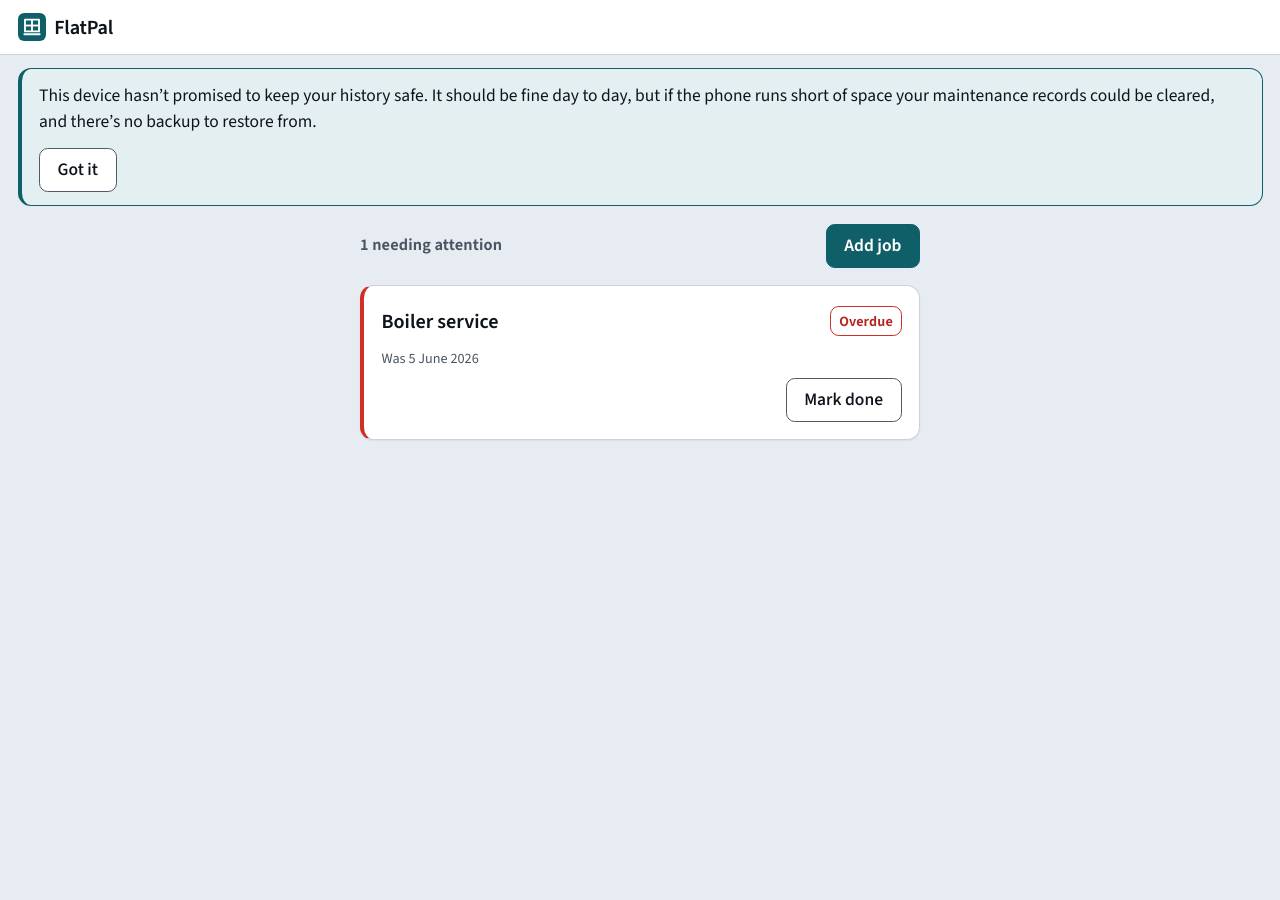
Test: removing one completion from a job’s history › removes the upper of two entries dated the same day, when that is the one pressed
Click the button "Boiler service" at (440, 321), box [382,299,499,343]
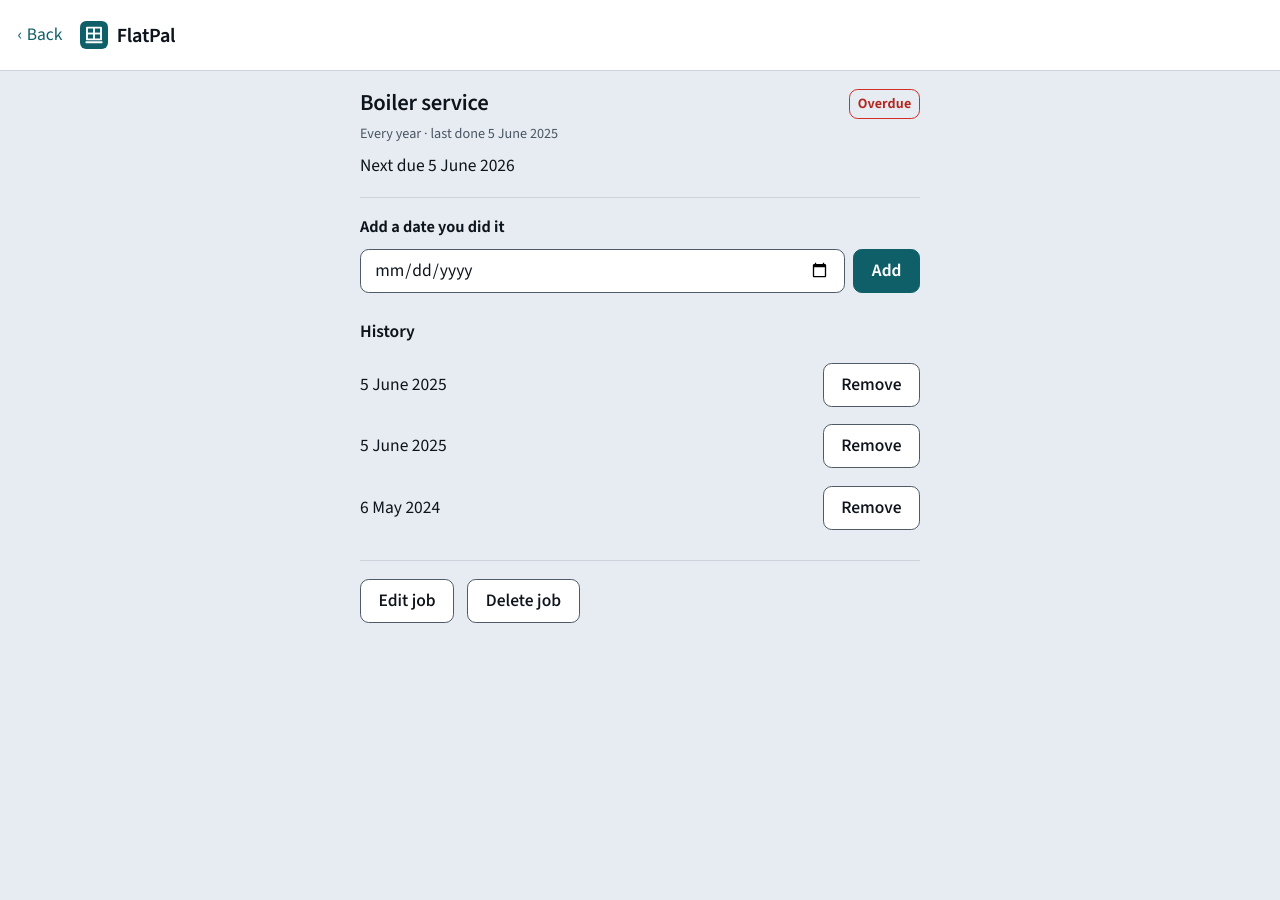
Click the button named "Remove the completion on 5 June 2025" at (871, 385), box [823,363,920,407]
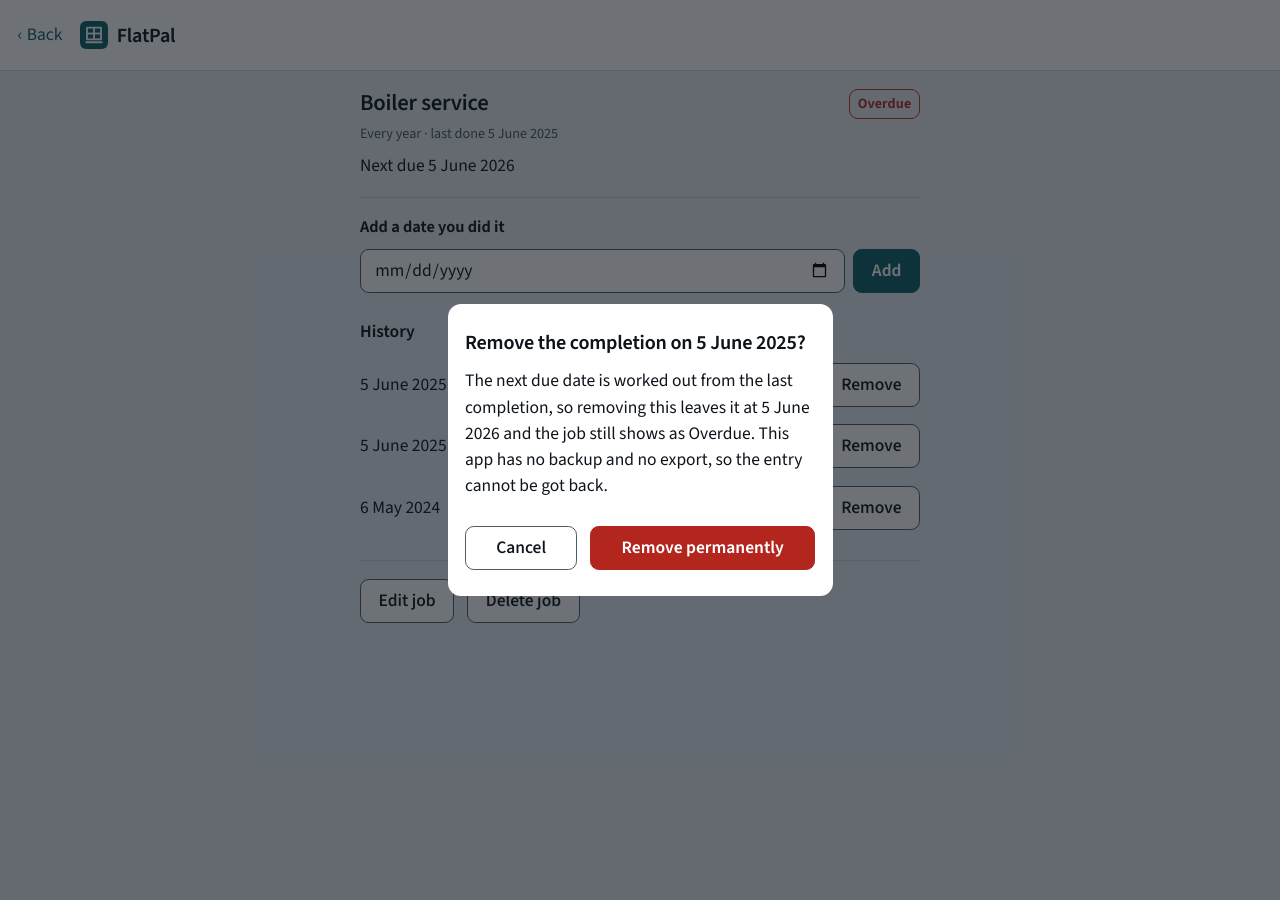
Click the button "Remove permanently" at (703, 548), box [590,526,815,570]
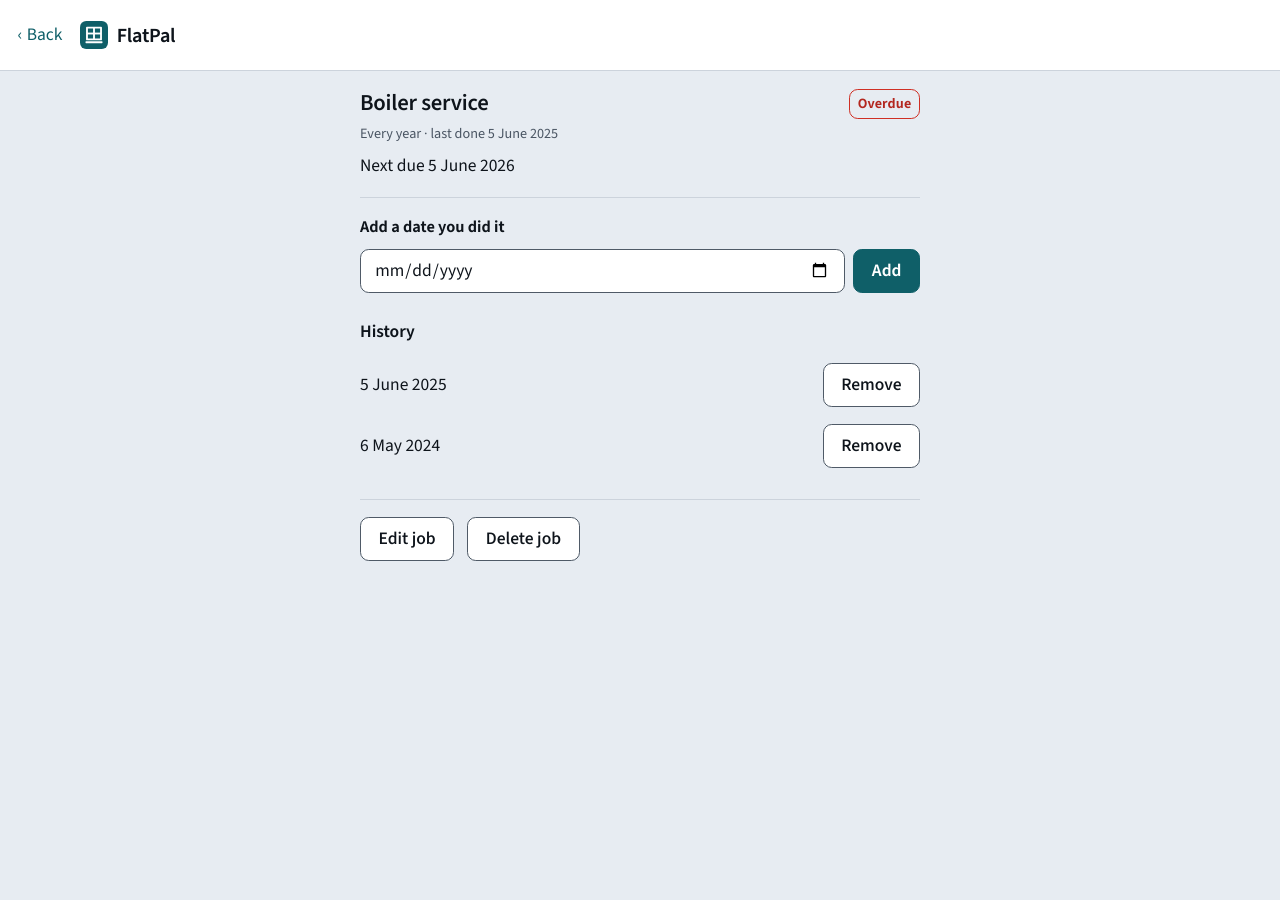
Result: the number of buttons named "Remove the completion on 5 June 2025" is 1 at [823,363,920,407]
